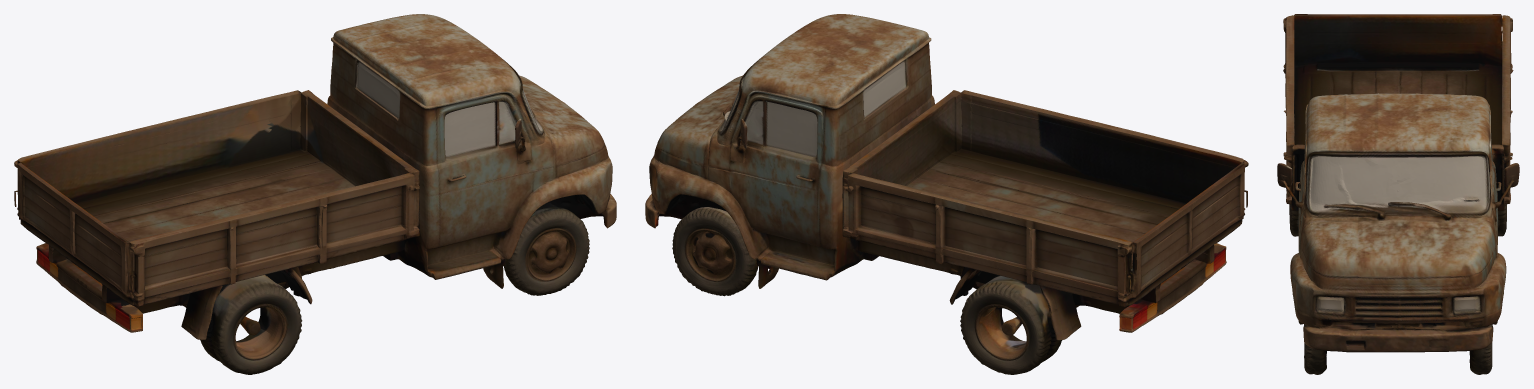
The model's file is tripo_convert_6e5886b1-9666-4405-a5f7-fe747bc8dd5f.obj.
3 renders of one model, left to right at view 1: azimuth 30°, elevation 25°; view 2: azimuth 150°, elevation 25°; view 3: azimuth 270°, elevation 25°, orthographic. The views are drawn at different scales.
Parts seen in each view (by area): view 1: tripo_node_6e5886b1-9666-4405-a5f7-fe747bc8dd5f; view 2: tripo_node_6e5886b1-9666-4405-a5f7-fe747bc8dd5f; view 3: tripo_node_6e5886b1-9666-4405-a5f7-fe747bc8dd5f.
Part boxes in pixels (bbox=[...]): tripo_node_6e5886b1-9666-4405-a5f7-fe747bc8dd5f: bbox=[14, 14, 616, 374]; tripo_node_6e5886b1-9666-4405-a5f7-fe747bc8dd5f: bbox=[645, 14, 1248, 374]; tripo_node_6e5886b1-9666-4405-a5f7-fe747bc8dd5f: bbox=[1277, 14, 1519, 374].
Size of the model in its own units: 1 by 0.4337 by 0.4325.
1 material, 1 textured.
